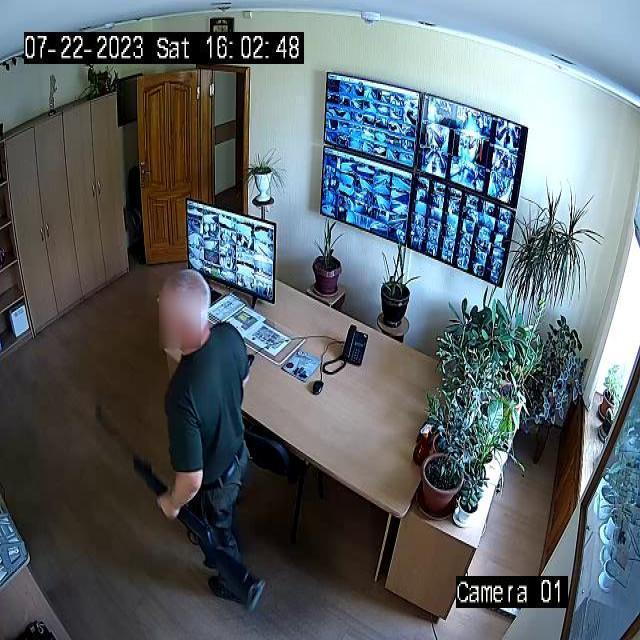pistol: (88, 401, 255, 598)
